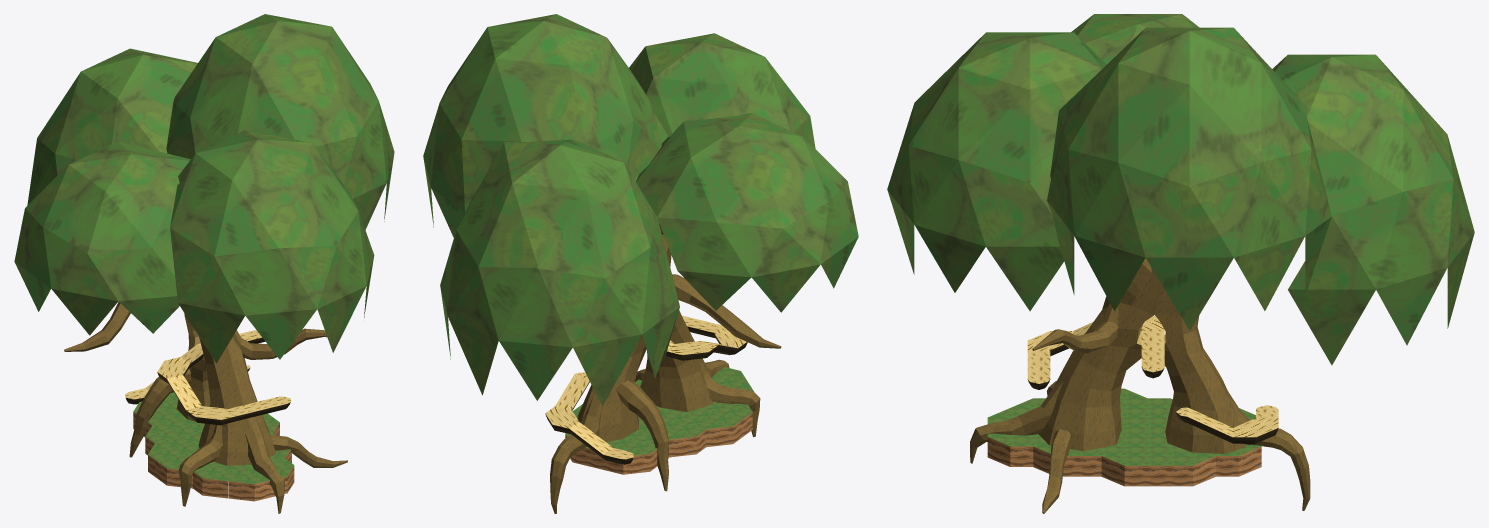
The model's file is WillowTree.fbx.
3 renders of one model, left to right at view 1: azimuth 30°, elevation 25°; view 2: azimuth 150°, elevation 25°; view 3: azimuth 270°, elevation 25°, orthographic. The views are drawn at different scales.
Parts seen in each view (by area): view 1: Icosphere, Icosphere.001, Cylinder, Cylinder.001, Cylinder.002, WoodWalkway.030, Plane.11578, WoodWalkway.001, Plane.11577; view 2: Icosphere, Icosphere.001, Cylinder, Cylinder.002, WoodWalkway.001, Plane.019, WoodWalkway.003, Plane.060; view 3: Icosphere, Icosphere.001, Cylinder, Cylinder.001, WoodWalkway.003.
Boxes of the visible parts, x1,y1,x2,y2 form: Icosphere: (14,14,394,363); Icosphere.001: (17,14,393,359); Cylinder: (129,313,347,513); Cylinder.001: (232,328,326,359); Cylinder.002: (64,301,130,351); WoodWalkway.030: (186,406,237,419); Plane.11578: (202,478,228,498); WoodWalkway.001: (157,357,189,378); Plane.11577: (228,481,254,501); Icosphere: (423,14,858,405); Icosphere.001: (424,15,857,403); Cylinder: (550,219,760,513); Cylinder.002: (672,274,781,348); WoodWalkway.001: (667,341,717,354); Plane.019: (669,436,696,457); WoodWalkway.003: (545,406,578,428); Plane.060: (706,426,732,446); Icosphere: (887,14,1474,365); Icosphere.001: (888,14,1473,363); Cylinder: (970,258,1310,513); Cylinder.001: (1032,303,1118,353); WoodWalkway.003: (1233,418,1278,437).
Bounding box in the file's own units: 8849 × 9948 × 10297.
